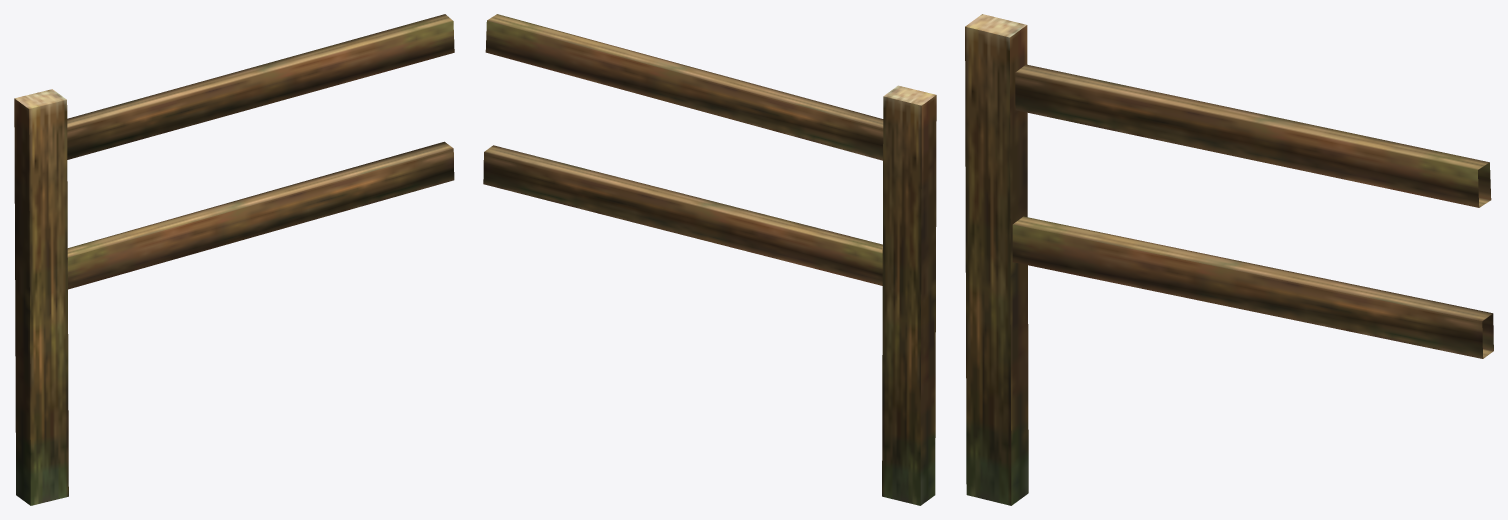
File: general_obj_fence04.fbx
3 renders of one model, left to right at view 1: azimuth 30°, elevation 25°; view 2: azimuth 150°, elevation 25°; view 3: azimuth 330°, elevation 25°, orthographic. The views are drawn at different scales.
Visible parts, largest first — view 1: Sphere01; view 2: Sphere01; view 3: Sphere01.
Boxes of the visible parts, bbox=[...] form: Sphere01: bbox=[14, 14, 454, 505]; Sphere01: bbox=[483, 14, 936, 505]; Sphere01: bbox=[965, 14, 1493, 505].
Size of the model in its own units: 2.44 by 2.14 by 0.1635.
